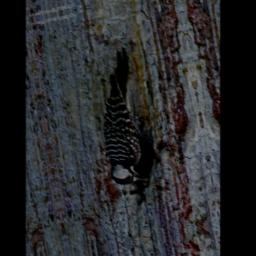Woodpecker: (86, 47, 153, 193)
